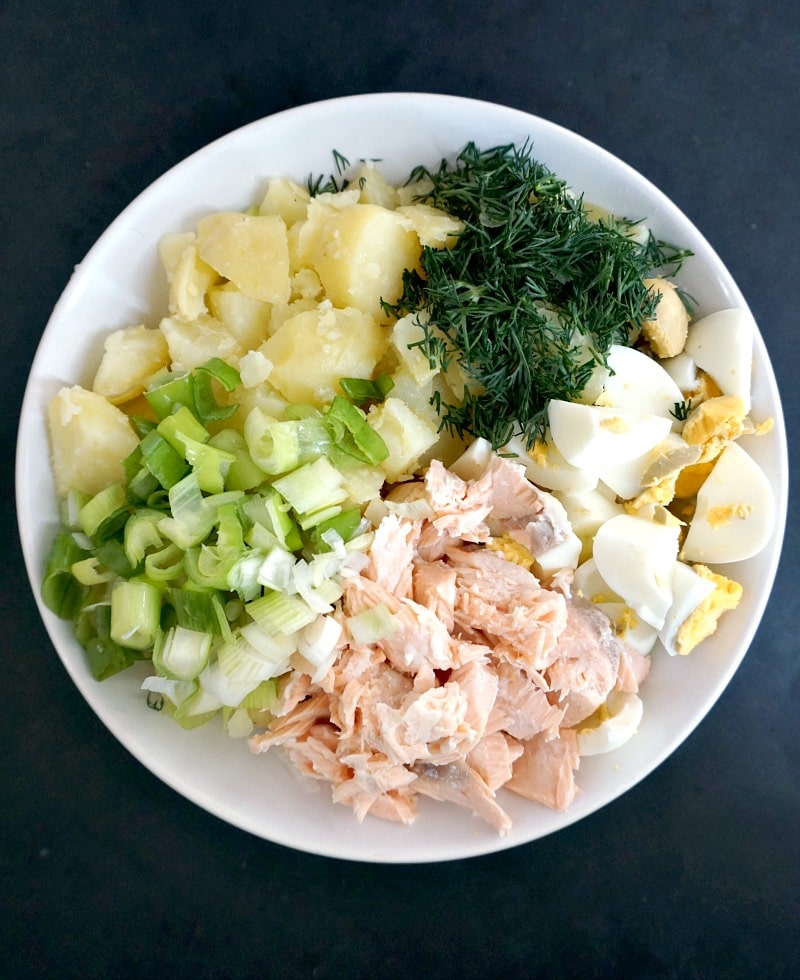boiled potatoes: (178, 212, 388, 370)
chopped lettuce: (146, 438, 260, 690)
fried egg: (570, 392, 690, 610)
